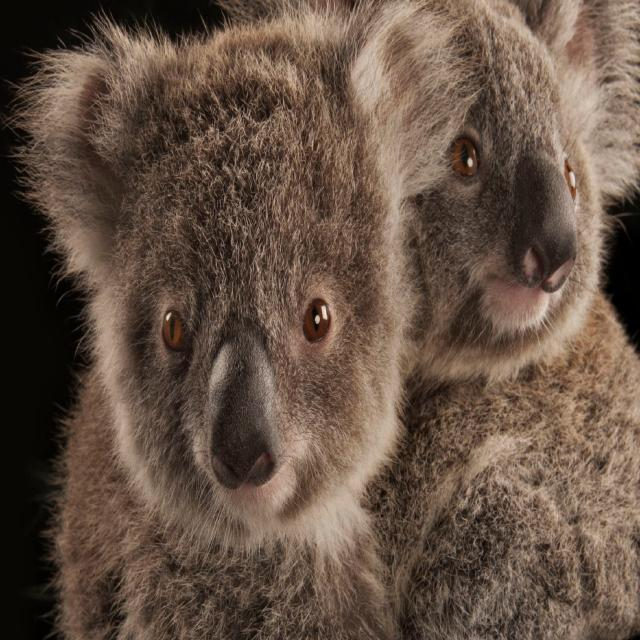Koala: (34, 0, 421, 640)
